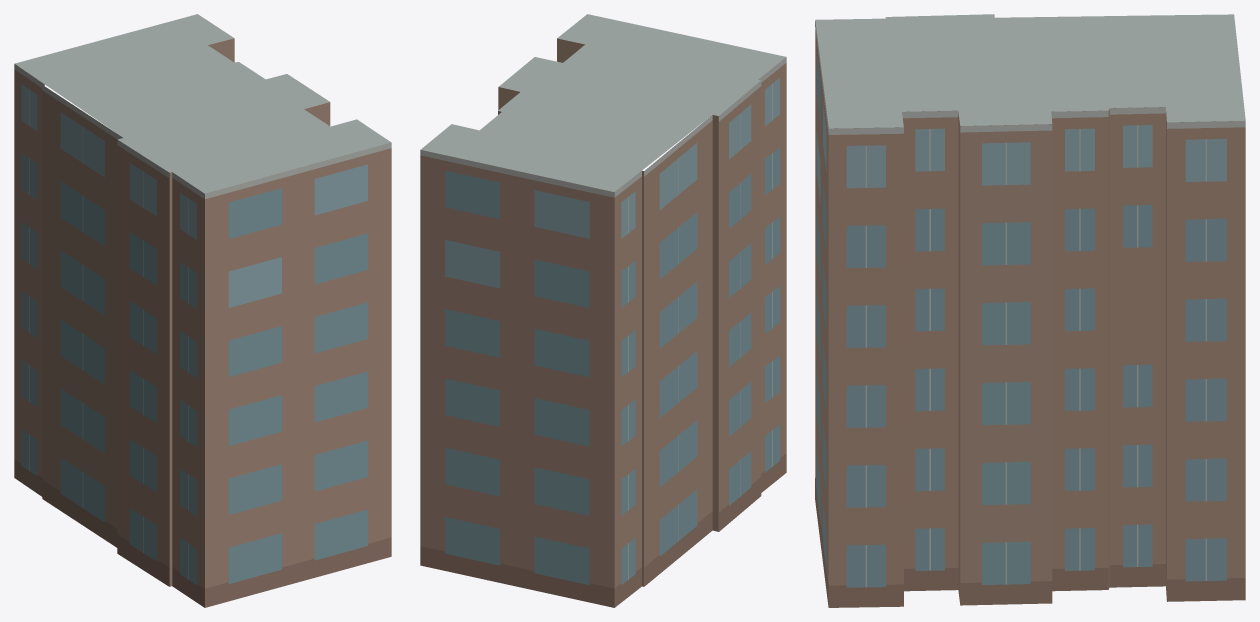
File: survey-upis-33015198.glb
3 views of the same model, side by side, from view 1: azimuth 30°, elevation 25°; view 2: azimuth 150°, elevation 25°; view 3: azimuth 270°, elevation 25° (orthographic). The views are drawn at different scales.
Visible parts, largest first — view 1: survey-upis-33015198.tmp; view 2: survey-upis-33015198.tmp; view 3: survey-upis-33015198.tmp.
Boxes of the visible parts, x1,y1,x2,y2 form: survey-upis-33015198.tmp: (14, 14, 391, 607); survey-upis-33015198.tmp: (420, 14, 786, 607); survey-upis-33015198.tmp: (815, 14, 1245, 607).
Bounding box in the file's own units: 9.28 × 18.1 × 14.75.
